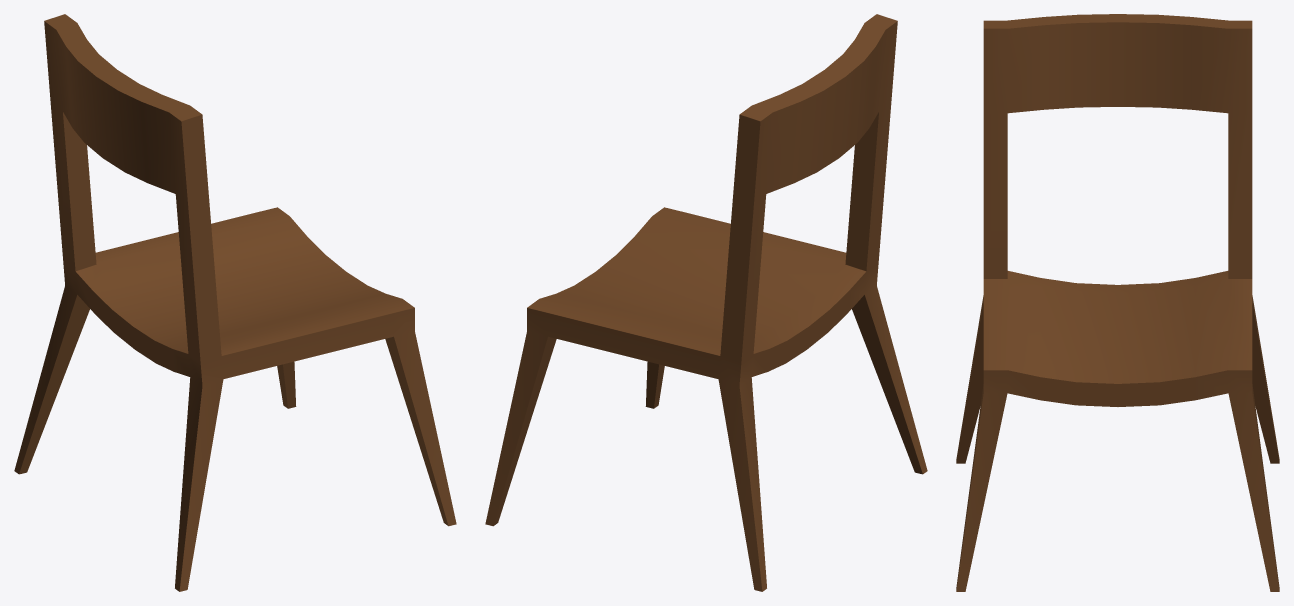
The picture shows the model from 3 angles, left to right: view 1: azimuth 30°, elevation 25°; view 2: azimuth 150°, elevation 25°; view 3: azimuth 270°, elevation 25°; orthographic projection. The views are drawn at different scales.
Parts seen in each view (by area): view 1: 立方体; view 2: 立方体; view 3: 立方体.
Boxes of the visible parts, x1,y1,x2,y2 form: 立方体: [14, 14, 456, 591]; 立方体: [485, 14, 927, 591]; 立方体: [956, 14, 1279, 591].
Bounding box in the file's own units: 2.11 × 3.33 × 2.18.
